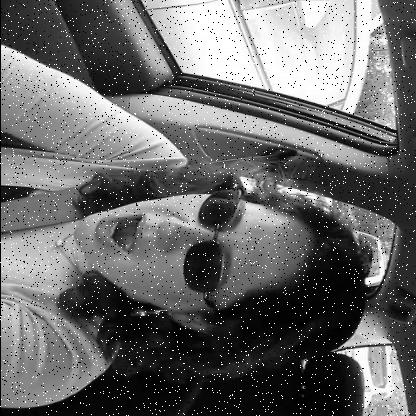seatbelt: (0, 158, 366, 353)
